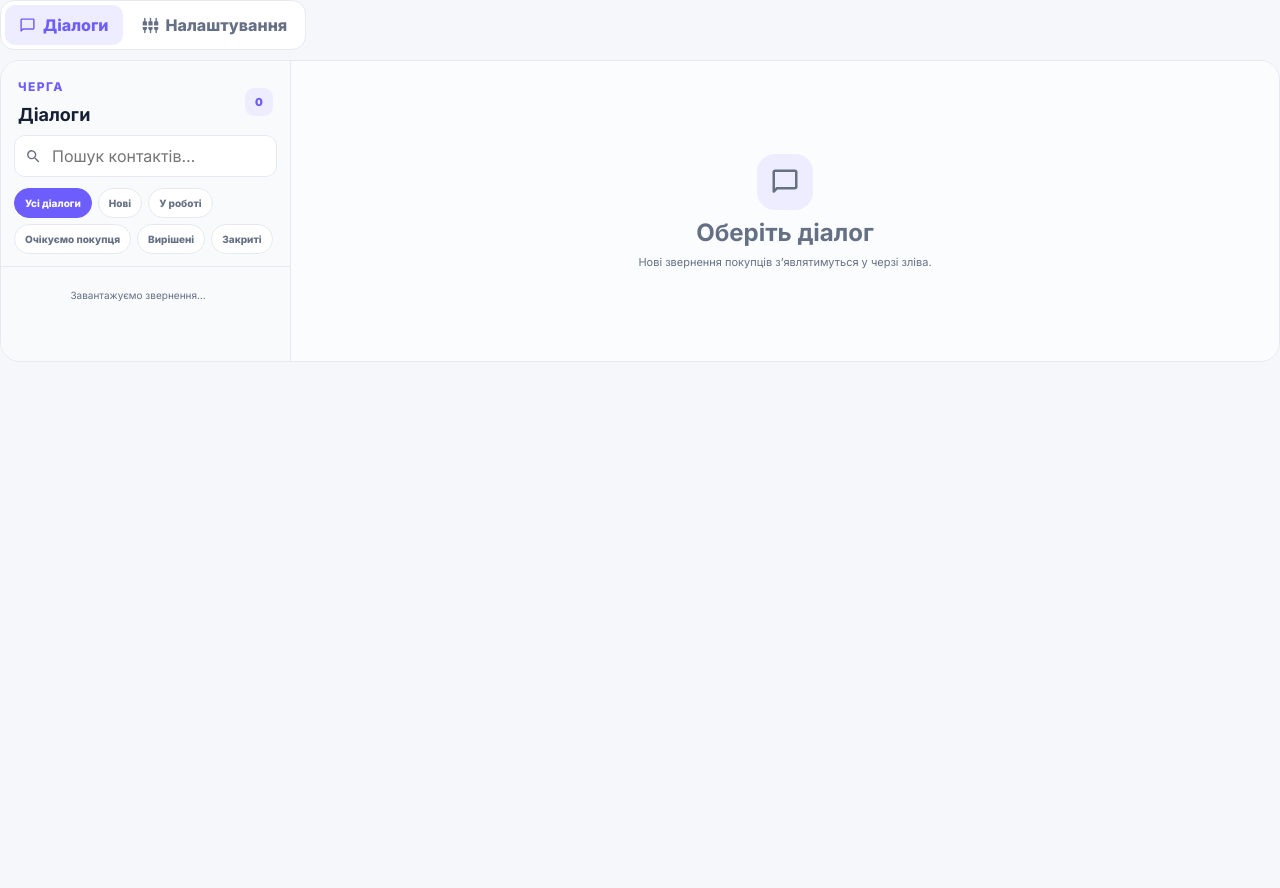
Scenario: OnlineSupportPage › shows the per-device Windows notification option in settings
Click the button "Налаштування". click: (214,25)
box: [128, 5, 301, 45]
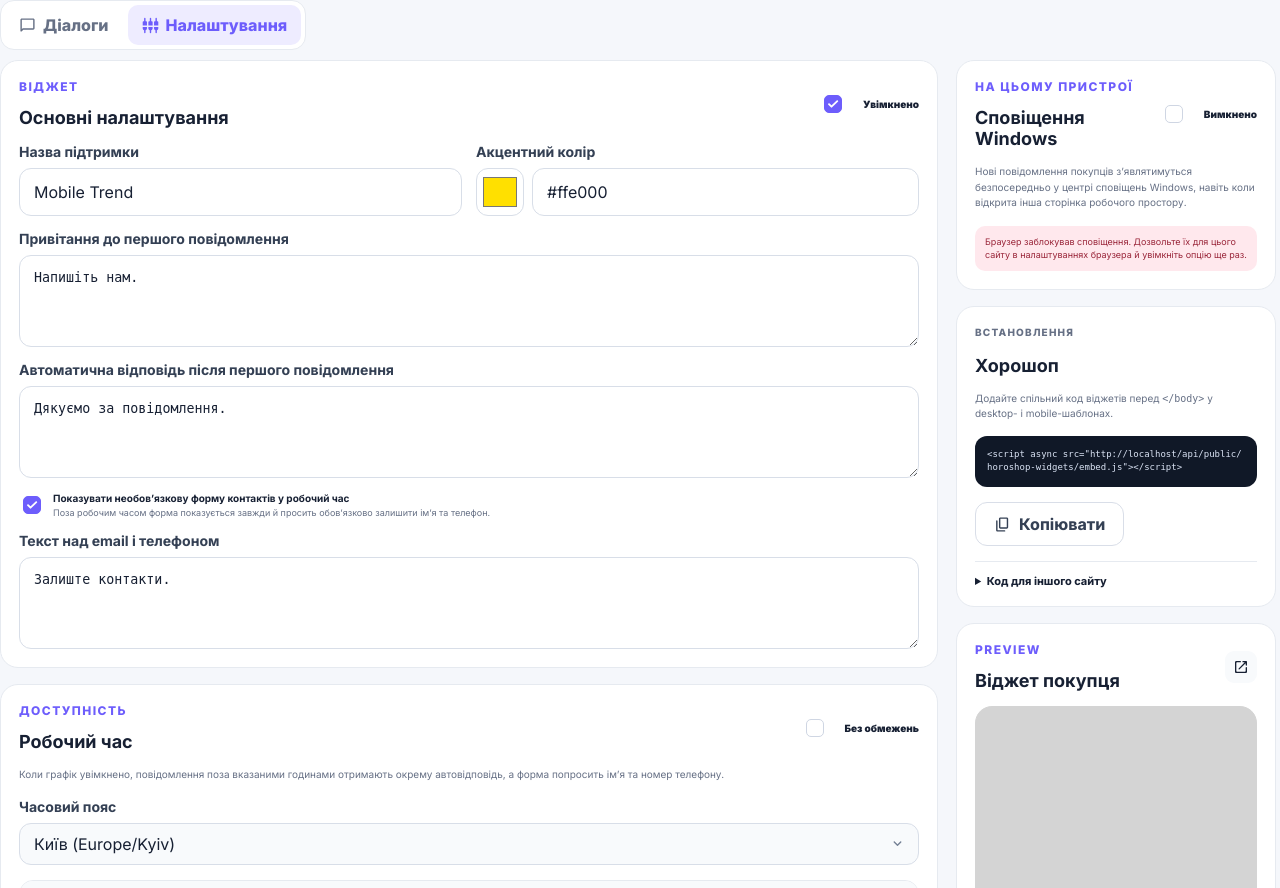
Check: the heading "Сповіщення Windows" is shown, box [975, 107, 1085, 149]
Check: the text "центрі сповіщень Windows" is shown, box [975, 165, 1254, 208]
